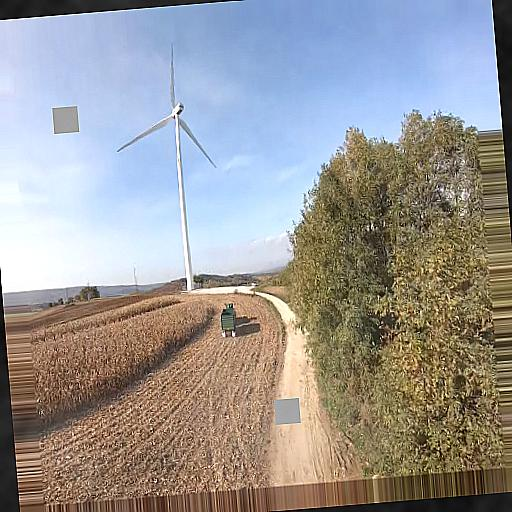wind turbine: (116, 44, 217, 293)
